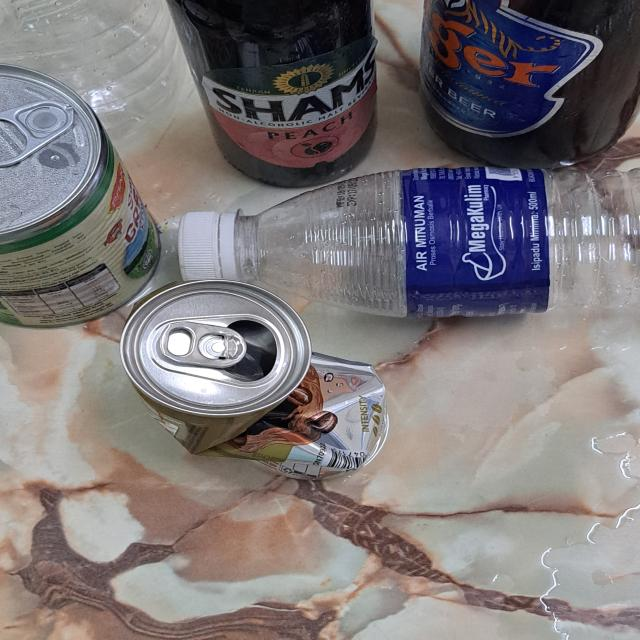can: (119, 279, 391, 479), (0, 65, 161, 328)
glass bottle: (164, 0, 380, 185), (415, 0, 640, 166)
plastic bottle: (238, 164, 640, 318)
plastic bottle cap: (177, 211, 238, 283)
pop tab: (0, 102, 76, 168), (160, 323, 246, 368)
